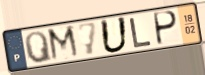7: (77, 20, 99, 58)
L: (128, 16, 153, 50)
M: (46, 24, 82, 64)
P: (154, 9, 180, 47)
Q: (23, 30, 54, 65)
U: (99, 15, 130, 55)
